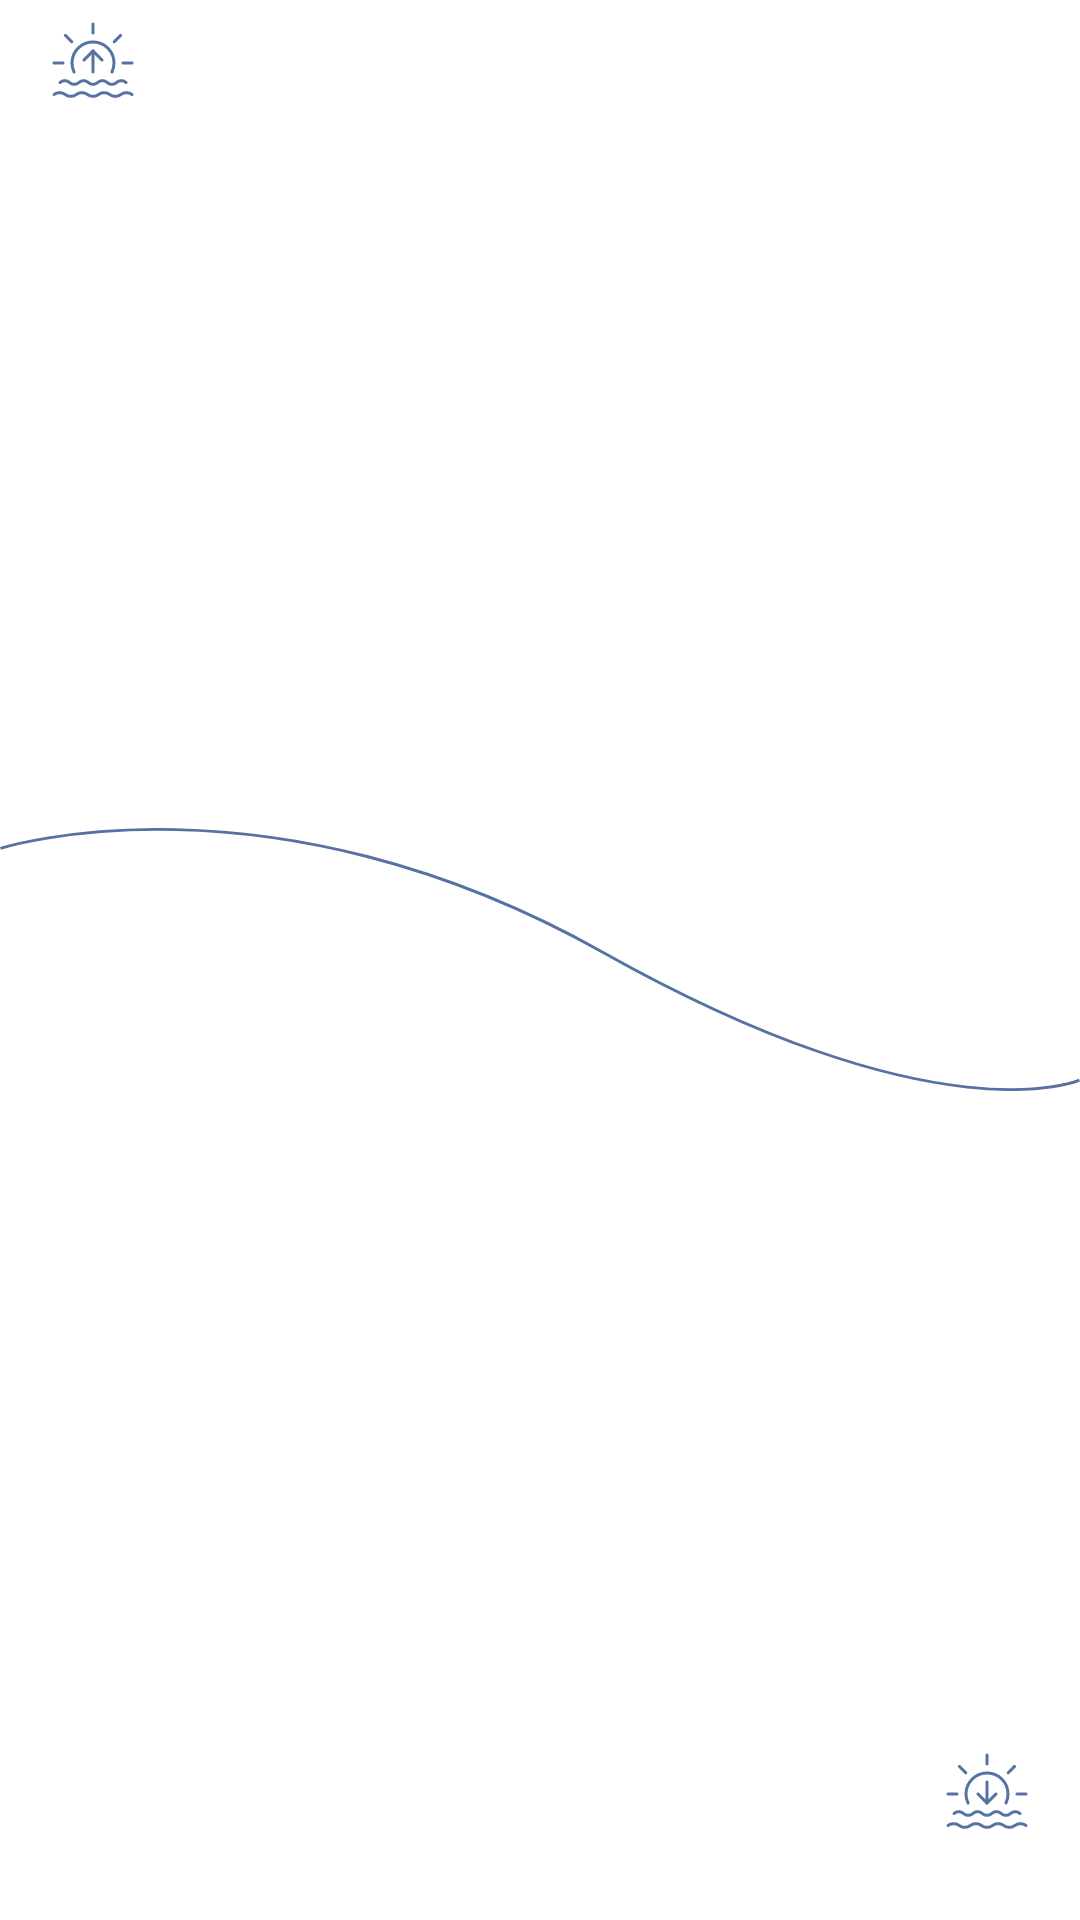

Where icons sit on this 1080px x 1920px app screen, as (x1, y1, x2, y2):
sunrise: (52, 22, 134, 98)
sunset: (946, 1753, 1028, 1829)
